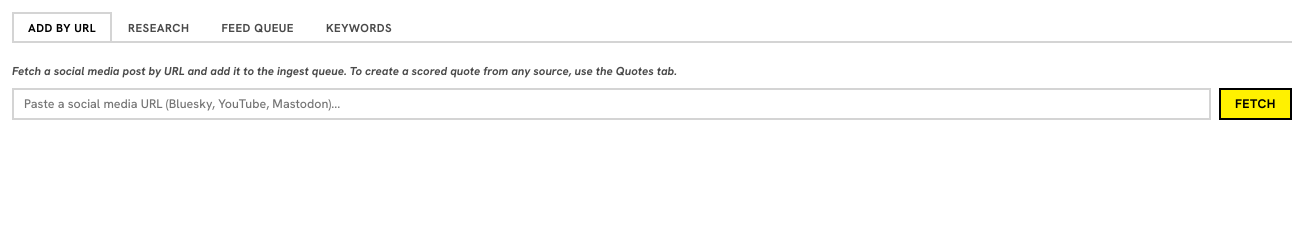
Test: SocialFeedTab — sub-nav › switches to the Feed Queue view when its tab is clicked
The image size is (1304, 229).
Click the button "Feed Queue": (258, 26) [205,12,310,41]
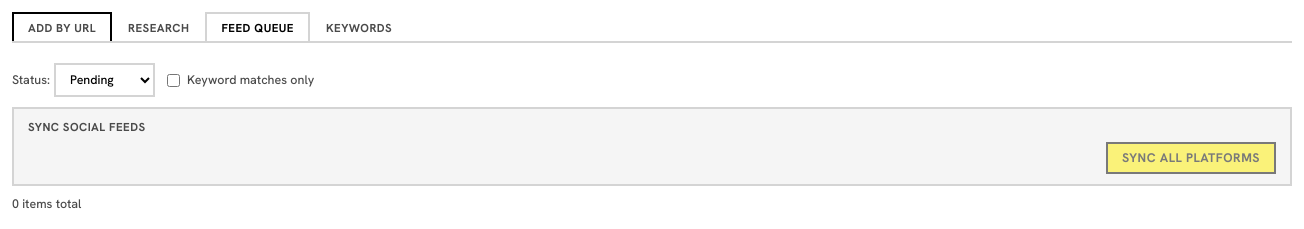
Check: the text "Sync Social Feeds" is shown, box [28,119,146,134]
Check: the text "0 items total" is shown, box [12,196,82,212]
